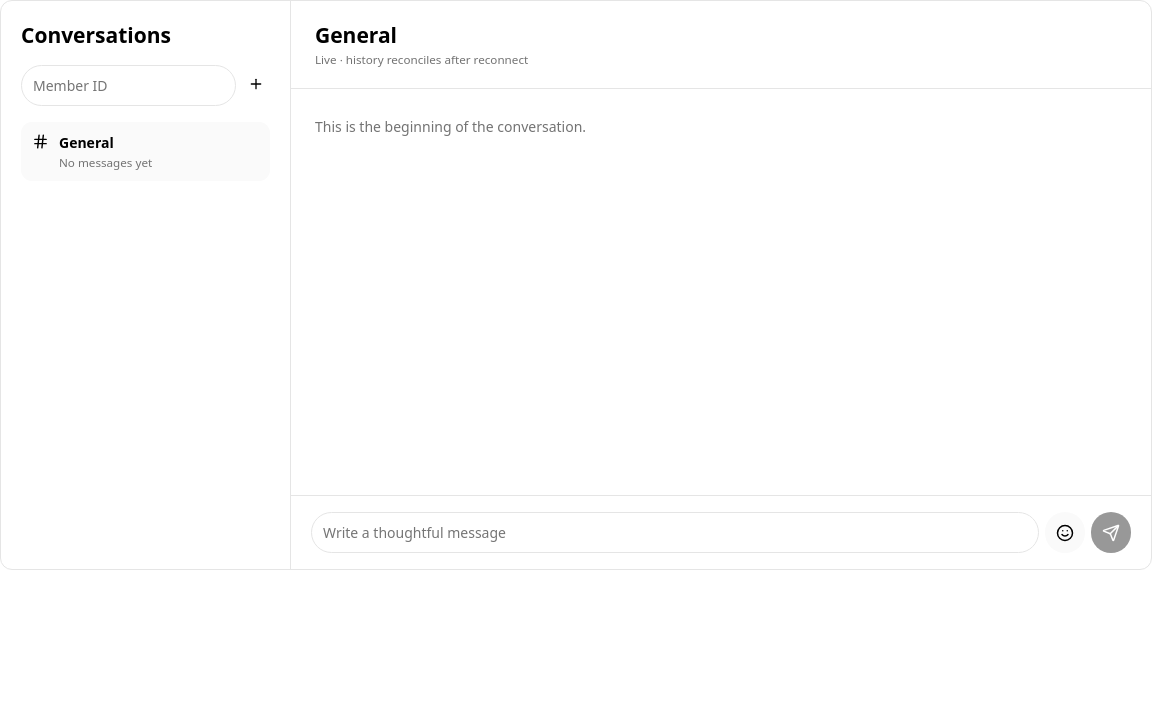
Test: inserts a selected emoji from the real picker into the message draft
The image size is (1152, 720).
Step 1. Click the button named "add emoji" → {"x": 1065, "y": 532}, box x1=1045 y1=512 x2=1085 y2=553
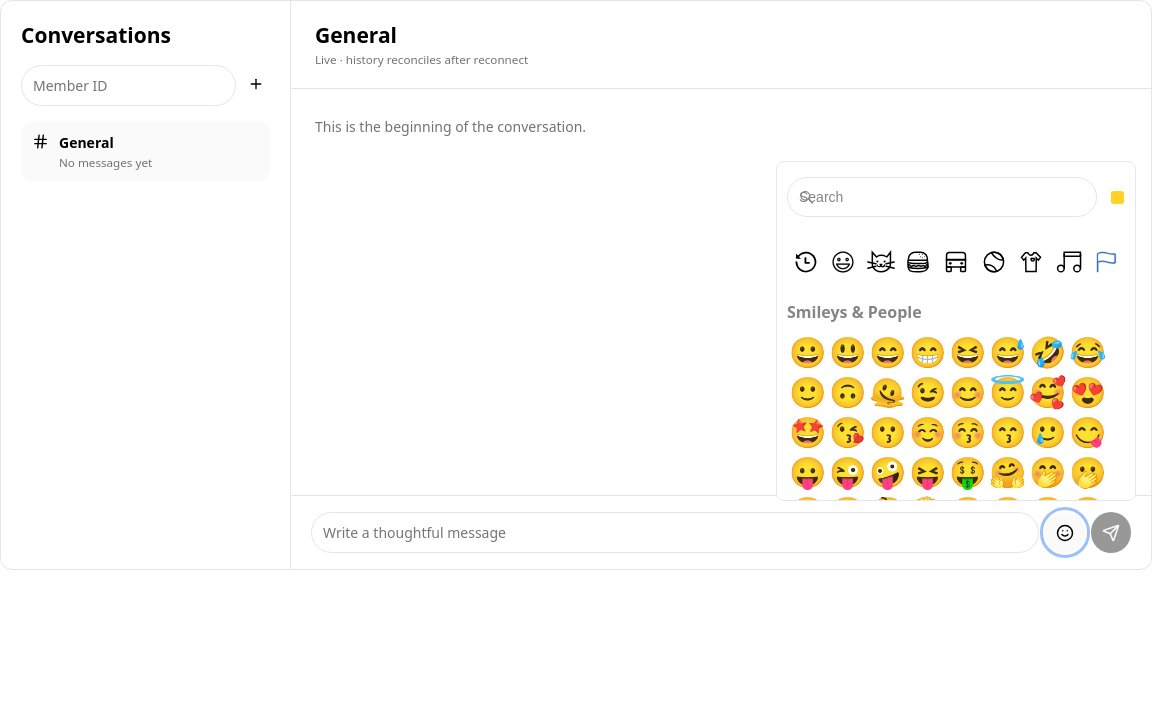
Step 2. Click the button named "grinning face" → {"x": 807, "y": 352}, box x1=787 y1=332 x2=827 y2=372
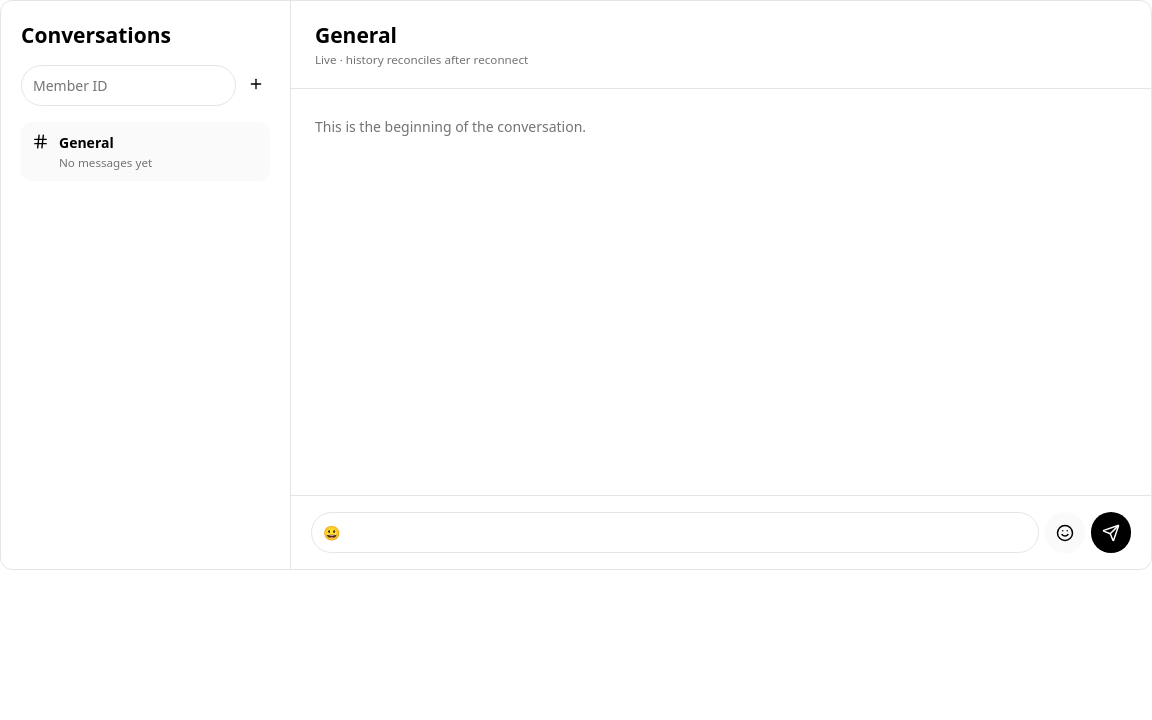
Now the field named "message" holds "😀", box x1=311 y1=512 x2=1039 y2=553
